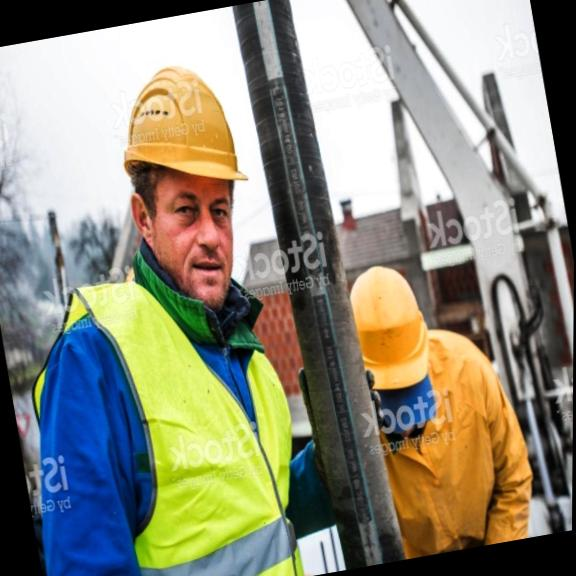safety_vest: (64, 263, 322, 576)
